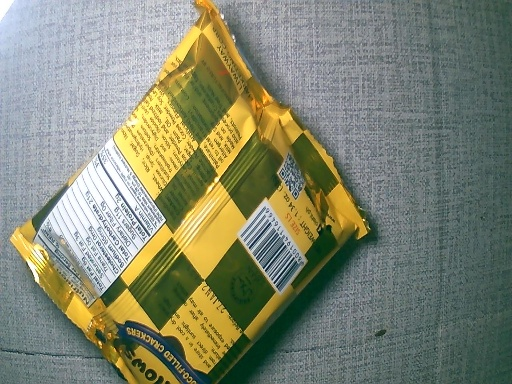plastic: (9, 5, 374, 384)
